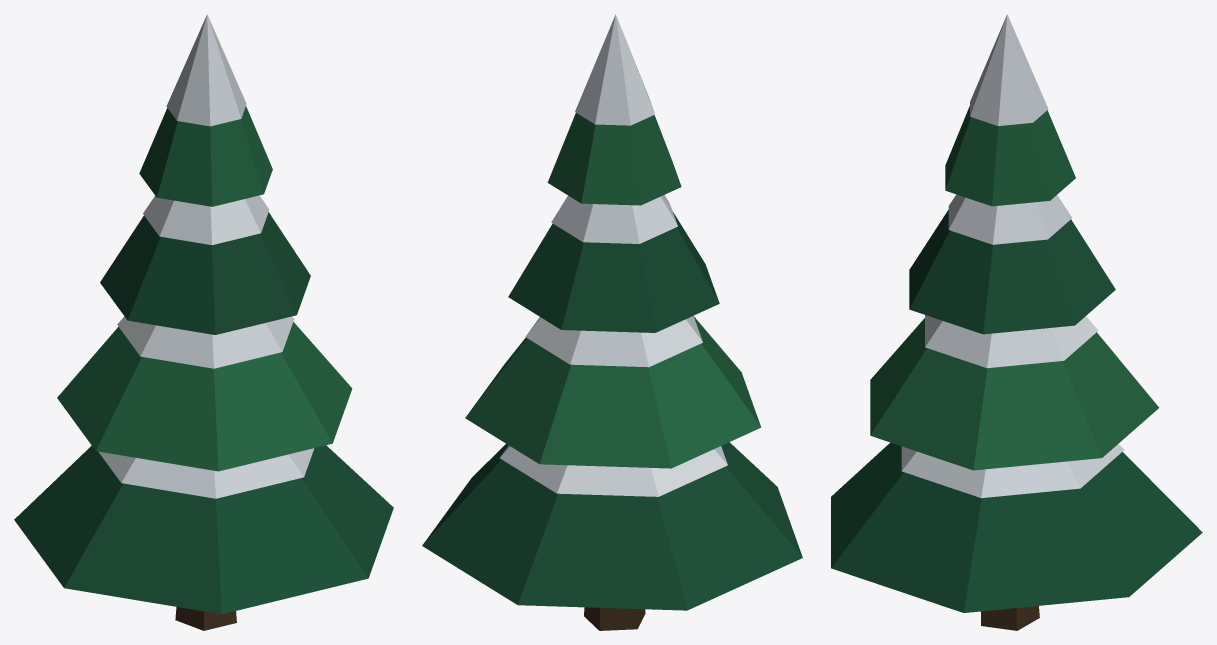
Rendered from Scatter_PineSnow.fbx.
3 renders of one model, left to right at view 1: azimuth 30°, elevation 25°; view 2: azimuth 150°, elevation 25°; view 3: azimuth 270°, elevation 25°, orthographic.
Parts seen in each view (by area): view 1: PineSnow; view 2: PineSnow; view 3: PineSnow.
Boxes of the visible parts, left/top/right/bottom form: PineSnow: left=14, top=14, right=393, bottom=630; PineSnow: left=422, top=14, right=802, bottom=630; PineSnow: left=831, top=14, right=1202, bottom=630.
Size of the model in its own units: 10.53 by 18.4 by 10.27.
